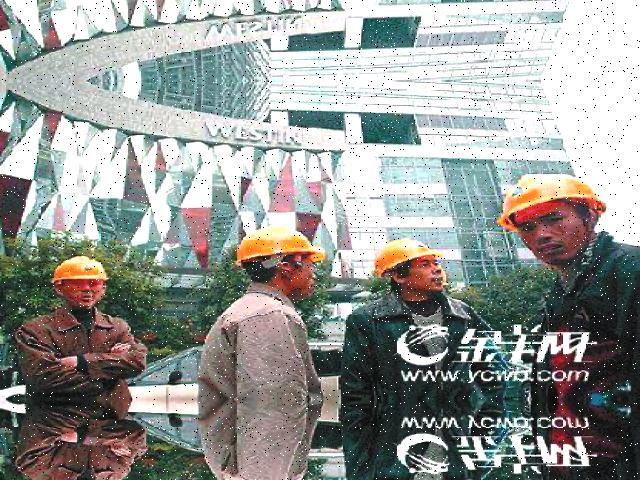Helmet: (486, 167, 609, 236), (226, 224, 326, 269), (366, 234, 446, 282), (42, 249, 110, 289)
